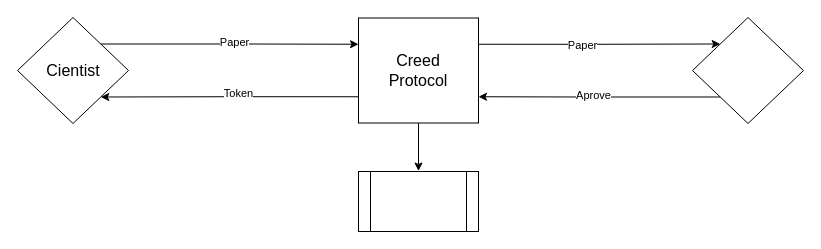
The diagram is 821 pixels wide and 249 high, and some of its shapes have lost their labels. Each missing label, with the centre of its shape:
"Descentraliced and Open Access Storage" goes at (418,201).
"Peer Reviewer" goes at (748,70).
